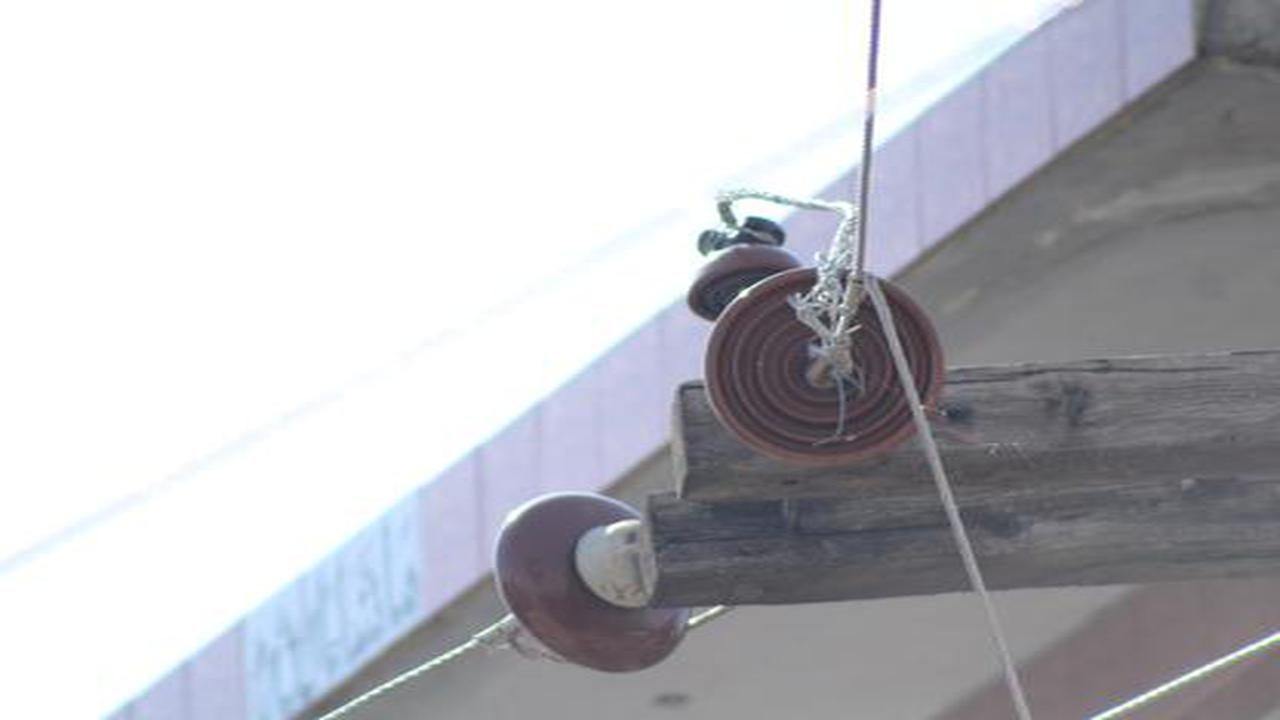insulator_disc: (703, 265, 949, 475), (486, 475, 697, 682)
insulator_pin: (682, 218, 800, 313)
